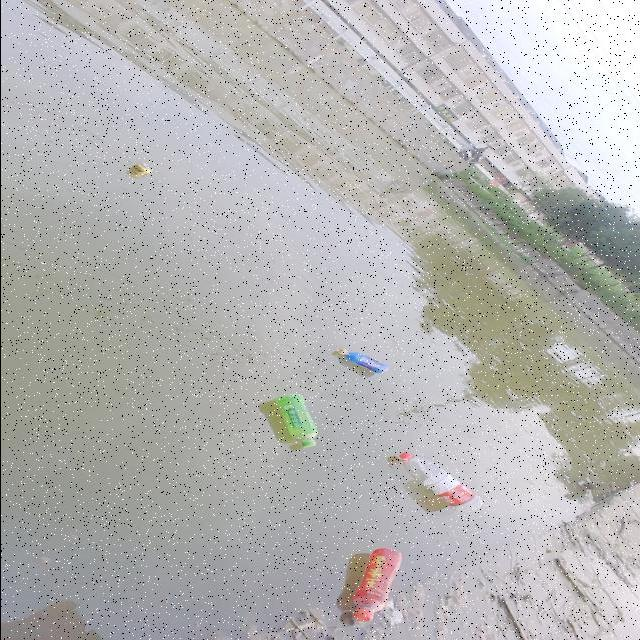Bottle: (392, 446, 487, 521), (341, 541, 408, 625), (264, 392, 322, 456), (324, 340, 388, 379)
